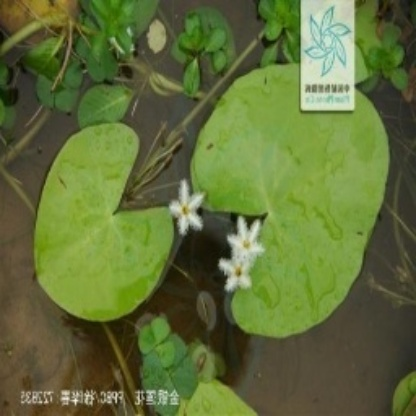leaf: (33, 124, 173, 325)
